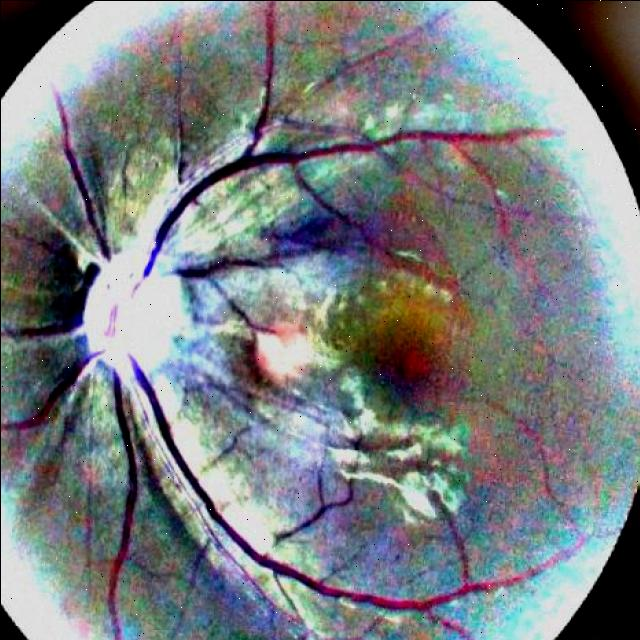Macula: (339, 310, 469, 419)
Nerves: (0, 72, 574, 640)
Optic Disk: (28, 212, 228, 419)
